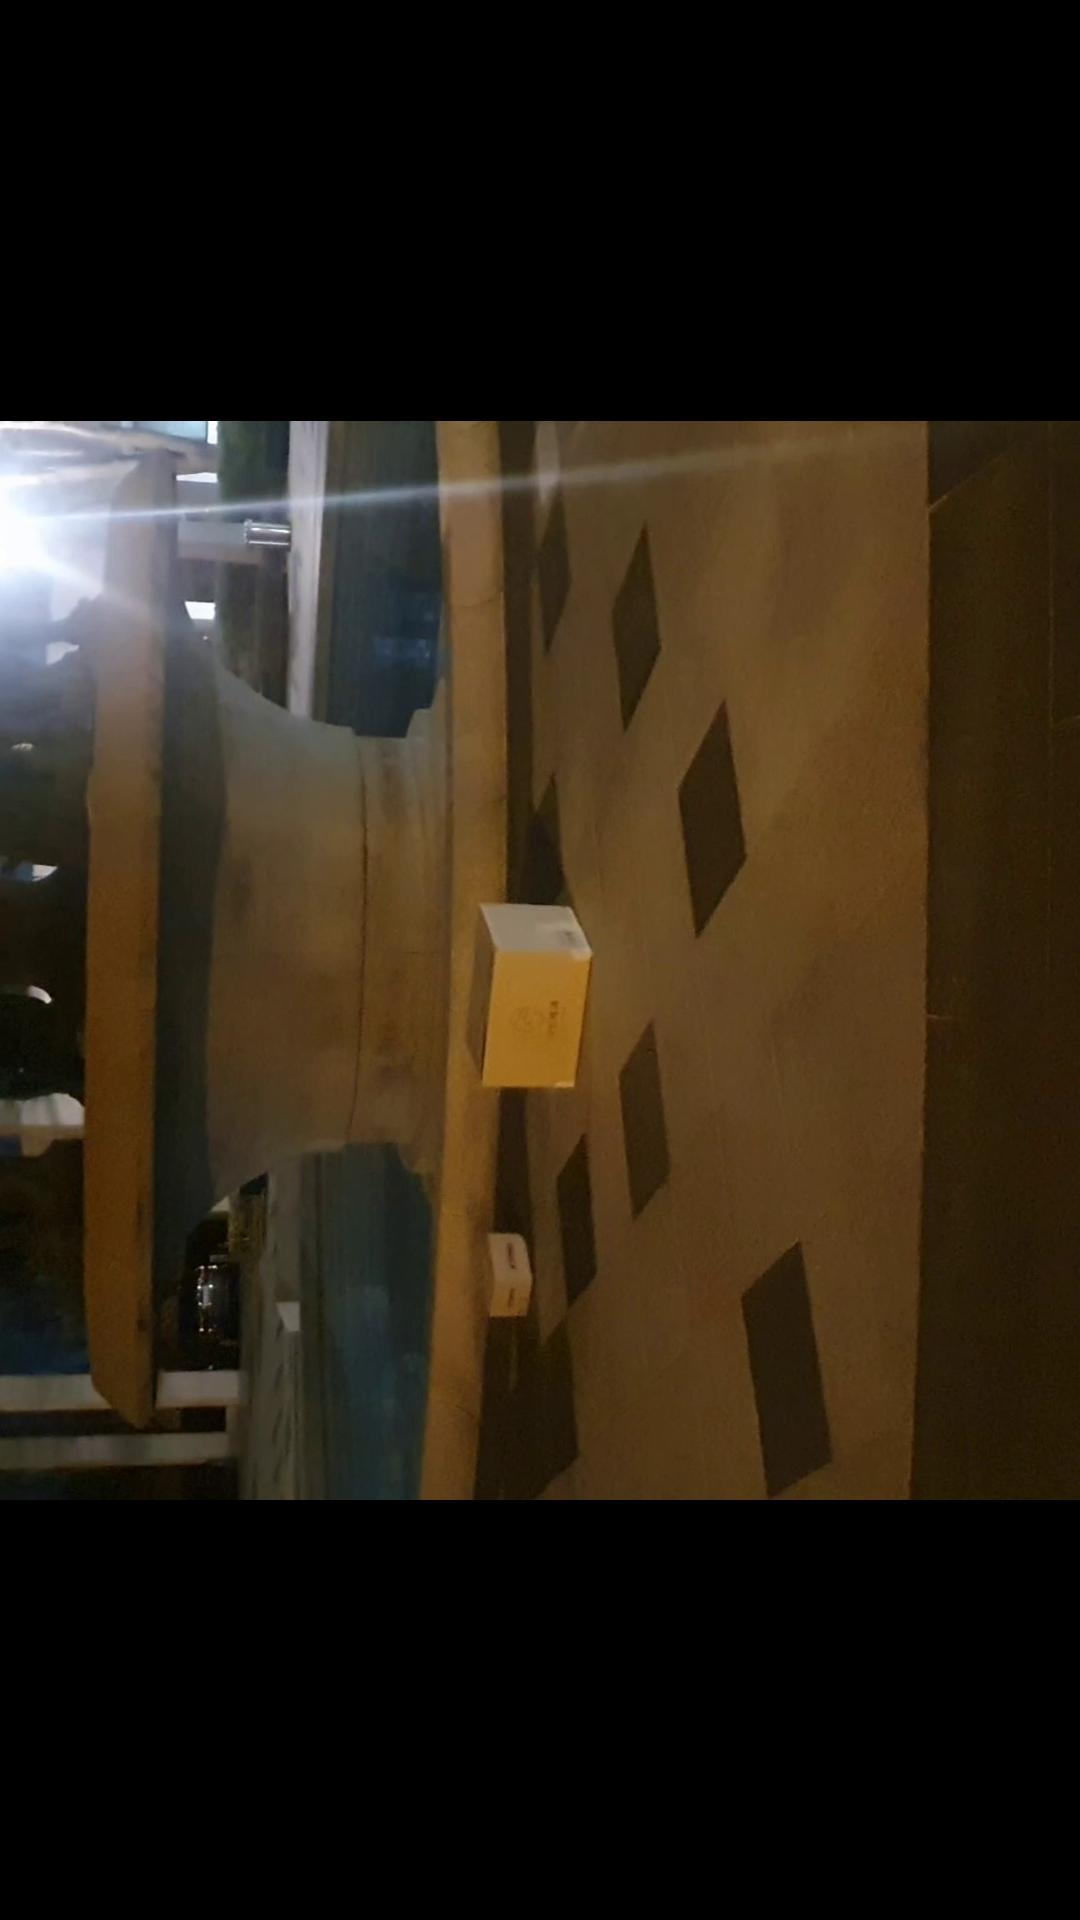Box: (458, 887, 597, 1097), (458, 1230, 538, 1324)
